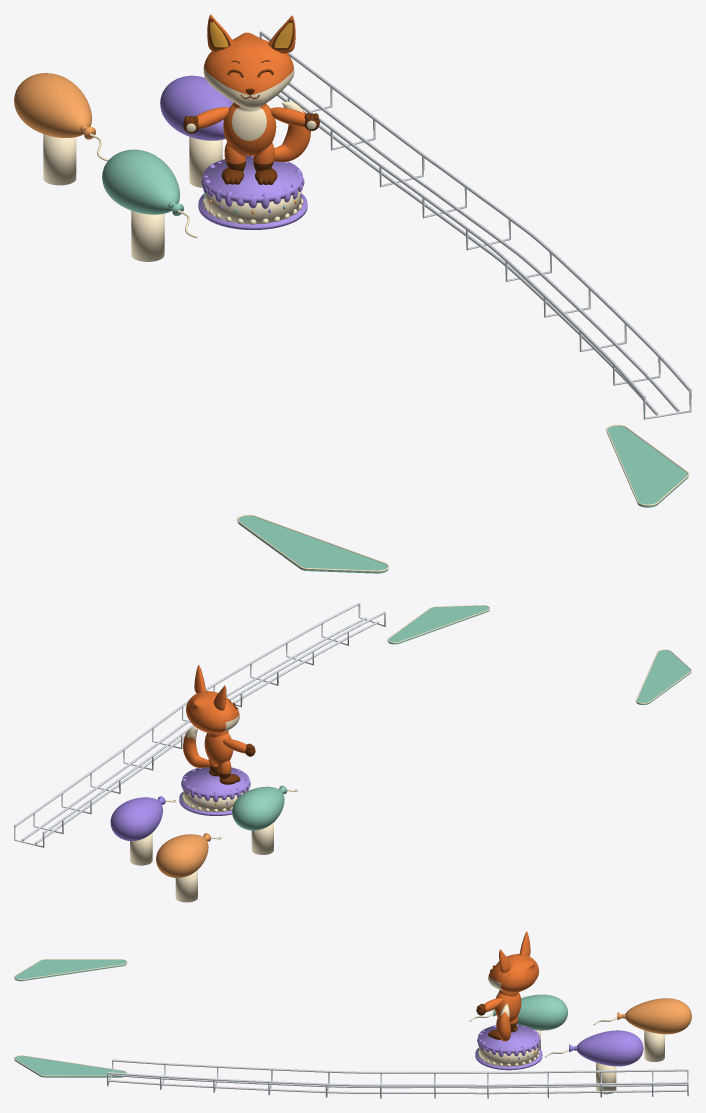
The model's file is finni-party-hardware.glb.
3 renders of one model, top to bottom at view 1: azimuth 30°, elevation 25°; view 2: azimuth 150°, elevation 25°; view 3: azimuth 270°, elevation 25°, orthographic. The views are drawn at different scales.
Visible parts, largest first — view 1: LilHead, Primitive077, Party balloon 3, Party balloon 1, Party sling cover | left panel, Party sling cover | right panel, Party balloon 2, Party cake | lavender frosting, Party wire ramp | rail 4, Party wire ramp | rail 2, Party wire ramp | rail 3, Party balloon support 3 (+5 smaller); view 2: LilHead, Party balloon 2, Party balloon 3, Party balloon 1, Primitive077, Party sling cover | right panel, Party sling cover | left panel, Party cake | lavender frosting, Party wire ramp | rail 4, Party wire ramp | rail 2, Party wire ramp | rail 3, Party wire ramp | rail 1 (+4 smaller); view 3: Party balloon 2, Party balloon 1, LilHead, Party wire ramp | rail 4, Party wire ramp | rail 3, Party balloon 3, Party wire ramp | rail 2, Party sling cover | left panel, Party sling cover | right panel, Party wire ramp | rail 1, Party cake | lavender frosting, Primitive077 (+6 smaller).
Part boxes in pixels (x1,y1,x2,y2): LilHead: (203, 14, 295, 108); Primitive077: (221, 101, 310, 184); Party balloon 3: (102, 149, 179, 214); Party balloon 1: (14, 73, 91, 137); Party sling cover | left panel: (237, 515, 388, 573); Party sling cover | right panel: (607, 425, 688, 507); Party balloon 2: (160, 75, 232, 140); Party cake | lavender frosting: (203, 155, 302, 202); Party wire ramp | rail 4: (259, 31, 691, 391); Party wire ramp | rail 2: (288, 82, 679, 411); Party wire ramp | rail 3: (281, 90, 645, 398); Party balloon support 3: (131, 210, 164, 261); LilHead: (186, 665, 239, 733); Party balloon 2: (110, 797, 162, 841); Party balloon 3: (232, 786, 284, 830); Party balloon 1: (156, 834, 208, 877); Primitive077: (183, 727, 240, 784); Party sling cover | right panel: (388, 605, 489, 644); Party sling cover | left panel: (636, 650, 691, 704); Party cake | lavender frosting: (182, 767, 249, 797); Party wire ramp | rail 4: (14, 602, 360, 826); Party wire ramp | rail 2: (21, 617, 366, 841); Party wire ramp | rail 3: (42, 611, 385, 833); Party wire ramp | rail 1: (35, 621, 378, 844); Party balloon 2: (576, 1030, 643, 1066); Party balloon 1: (625, 998, 691, 1034); LilHead: (488, 931, 538, 992); Party wire ramp | rail 4: (107, 1072, 687, 1086); Party wire ramp | rail 3: (112, 1059, 687, 1073); Party balloon 3: (517, 994, 567, 1030); Party wire ramp | rail 2: (108, 1079, 687, 1094); Party sling cover | left panel: (14, 959, 126, 981); Party sling cover | right panel: (14, 1056, 125, 1077); Party wire ramp | rail 1: (111, 1074, 687, 1088); Party cake | lavender frosting: (478, 1024, 539, 1053); Primitive077: (488, 990, 521, 1041).
Bounding box in the file's own units: 0.3692 × 0.1664 × 0.7259.
Materials: 7 (1 with a texture image).
